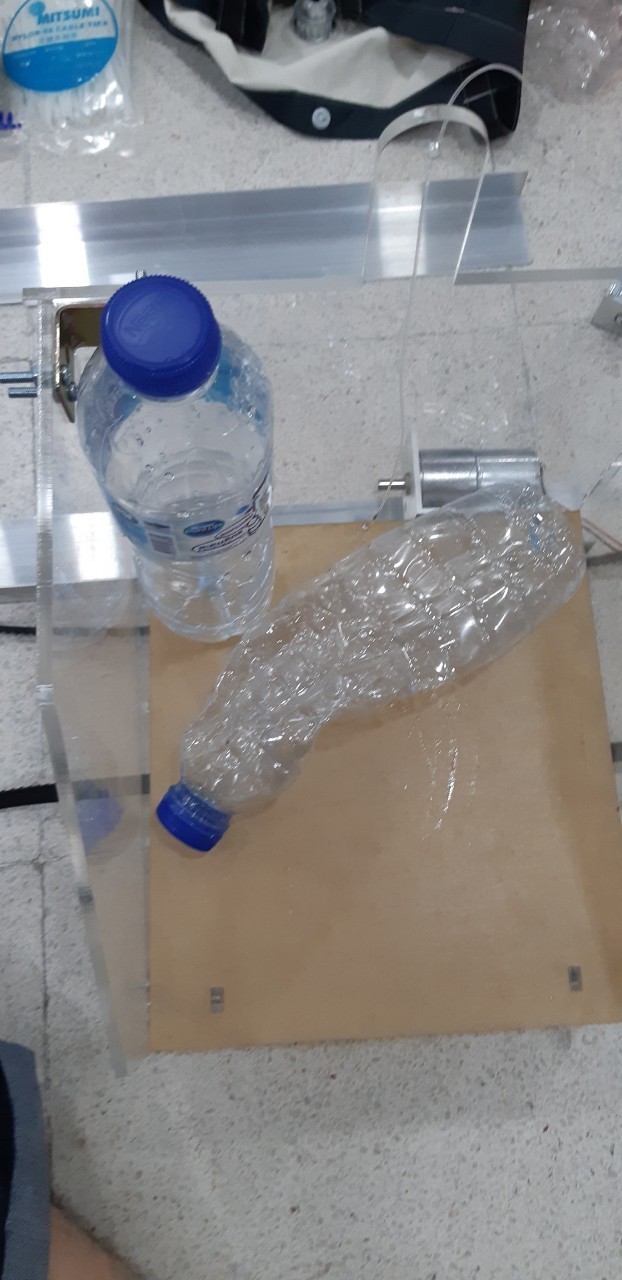PlasticBottle: (157, 474, 584, 853), (76, 276, 278, 645)
